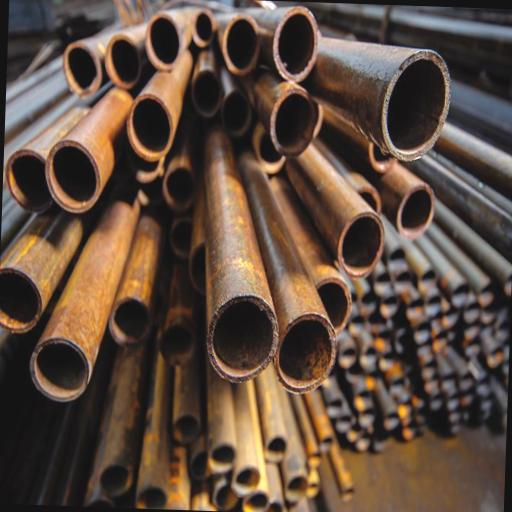corrosion: (199, 146, 346, 387), (21, 184, 145, 407), (200, 128, 279, 384), (269, 136, 403, 284), (29, 72, 146, 220), (27, 83, 141, 220), (351, 129, 449, 243), (104, 211, 177, 350), (119, 65, 189, 166), (62, 41, 104, 95)
